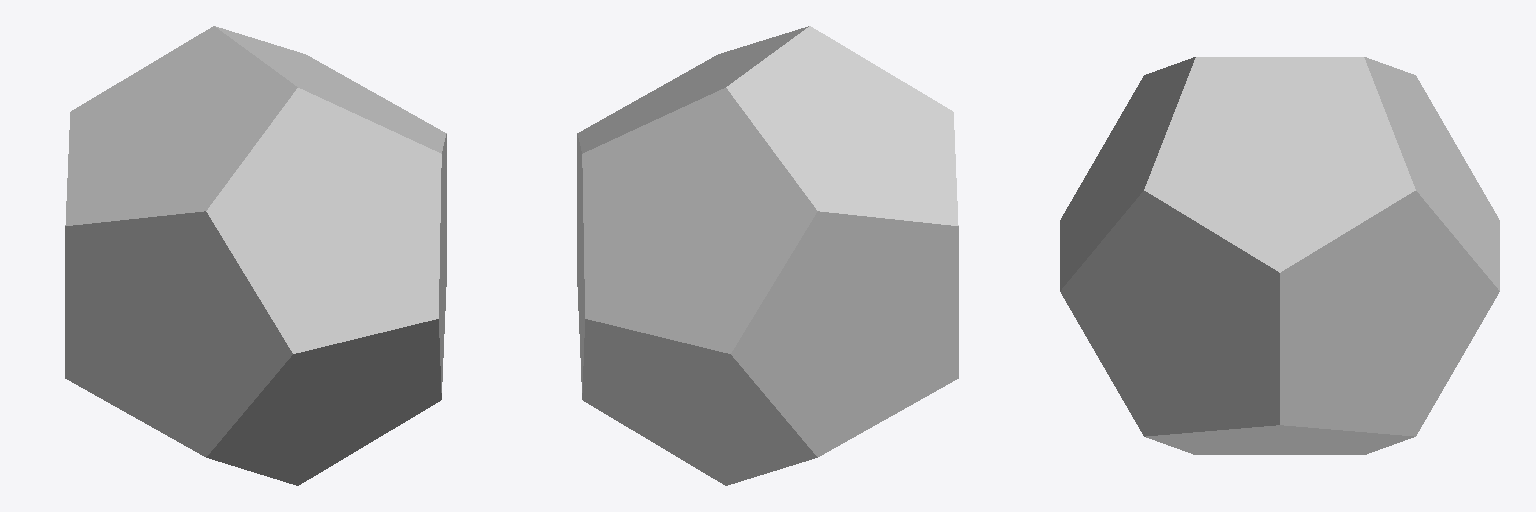
Rendered from Dodecahedron.obj.
3 renders of one model, left to right at view 1: azimuth 30°, elevation 25°; view 2: azimuth 150°, elevation 25°; view 3: azimuth 270°, elevation 25°, orthographic.
Visible parts, largest first — view 1: MODEL_DODECAHEDRON_PART_1_N3D; view 2: MODEL_DODECAHEDRON_PART_1_N3D; view 3: MODEL_DODECAHEDRON_PART_1_N3D.
Part boxes in pixels (x1,y1,x2,y2): MODEL_DODECAHEDRON_PART_1_N3D: (65, 26, 446, 485); MODEL_DODECAHEDRON_PART_1_N3D: (577, 26, 958, 485); MODEL_DODECAHEDRON_PART_1_N3D: (1060, 57, 1499, 454).
Size of the model in its own units: 18.68 by 18.68 by 18.68.